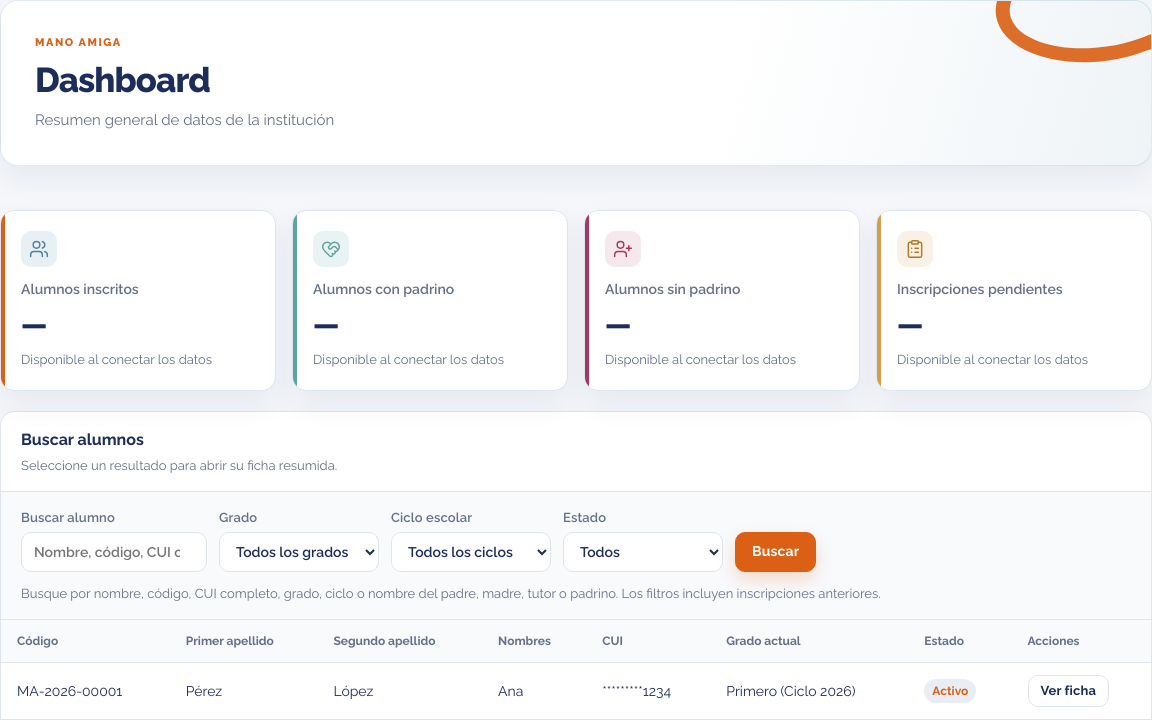
Test: búsqueda y ficha del alumno desde el dashboard › muestra los errores al guardar sin perder los cambios del formulario
Click the button with aria-label "Ver ficha de Ana Pérez López" at (1068, 691), box 1028,675 -> 1109,707
(page scrolled)
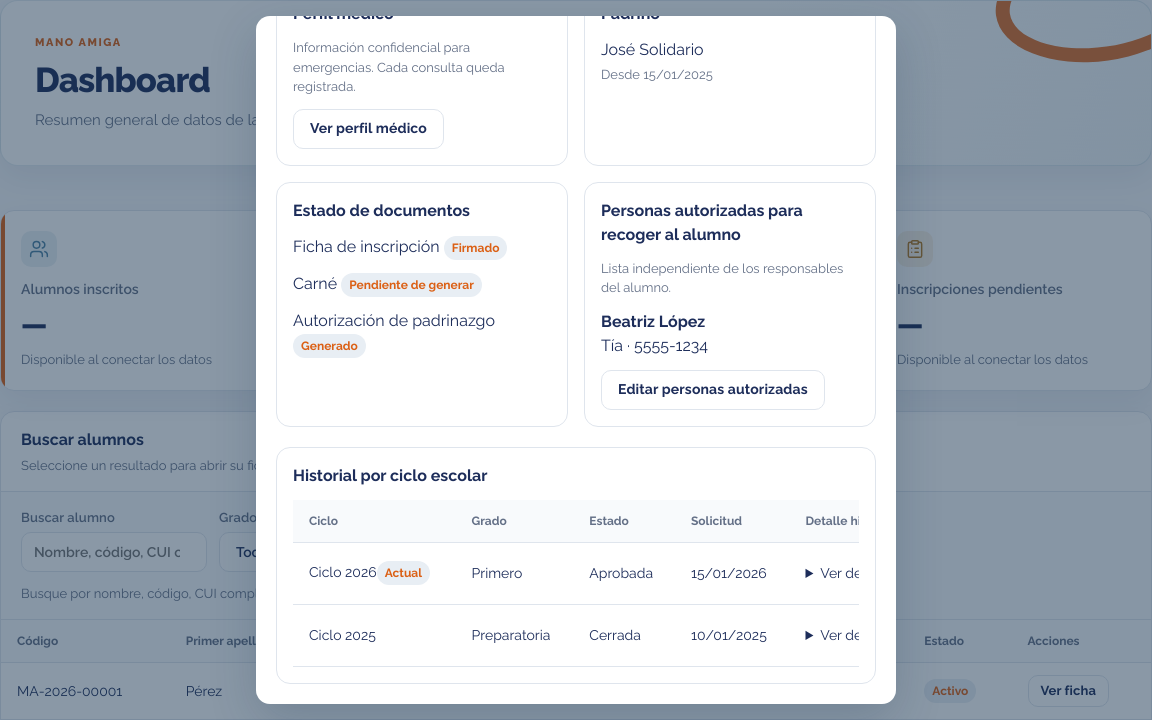
Click the button "Editar personas autorizadas" at (713, 390), box 601,370 -> 825,410
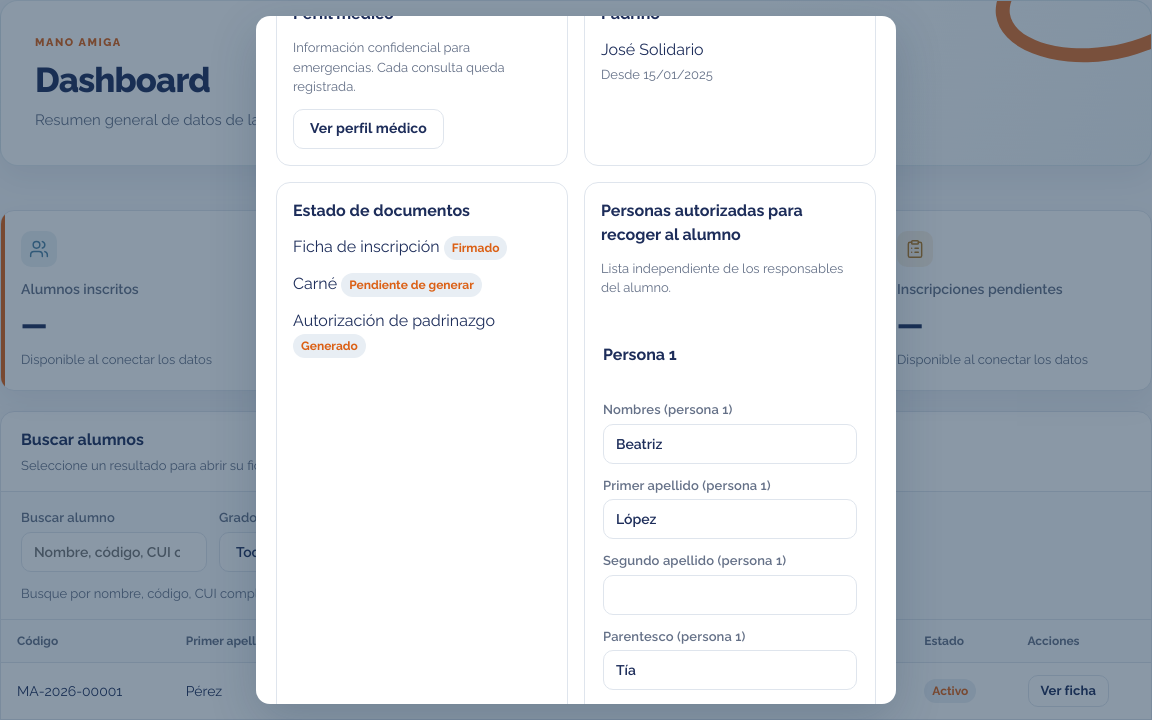
Replace the text in the field labelled "Nombres (persona 1)" with "Nombre cambiado" at (730, 444), box 603,424 -> 857,464
(page scrolled)
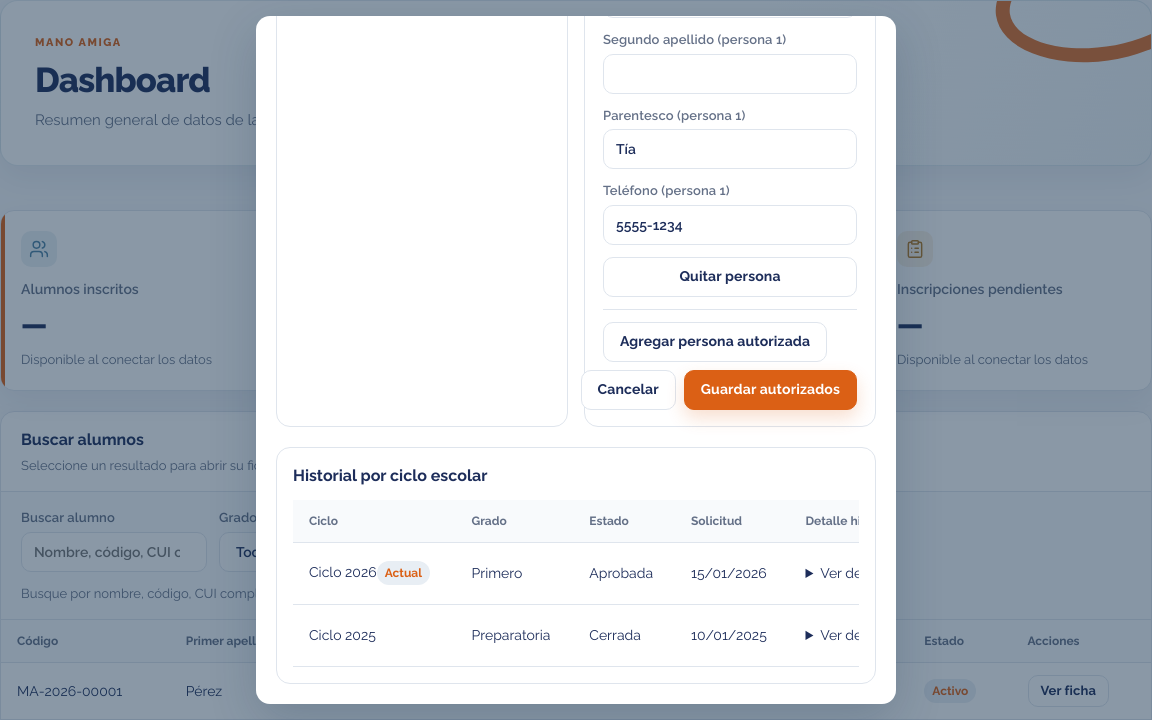
Click the button "Guardar autorizados" at (770, 390), box 684,370 -> 857,410
(page scrolled)
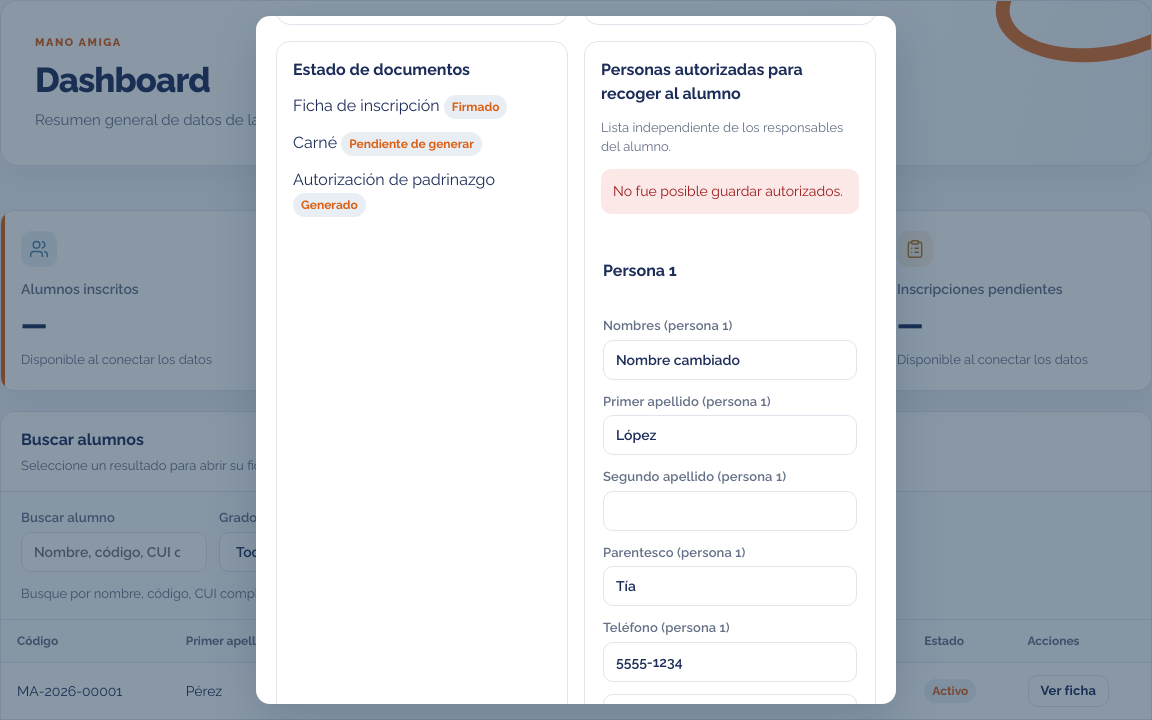
Expected: the message "No fue posible guardar autorizados." is shown, 601,168 -> 859,214
